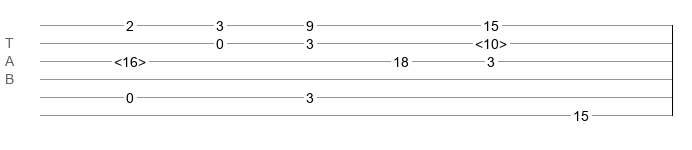0: (126, 90, 134, 100), (216, 36, 224, 46)
15: (483, 18, 499, 28), (573, 108, 589, 118)
18: (393, 54, 409, 64)
2: (126, 18, 134, 28)
3: (216, 18, 224, 28), (306, 90, 314, 100), (306, 36, 314, 46), (487, 54, 495, 64)
9: (306, 18, 314, 28)
harmonic: (114, 54, 146, 64), (475, 36, 507, 46)
